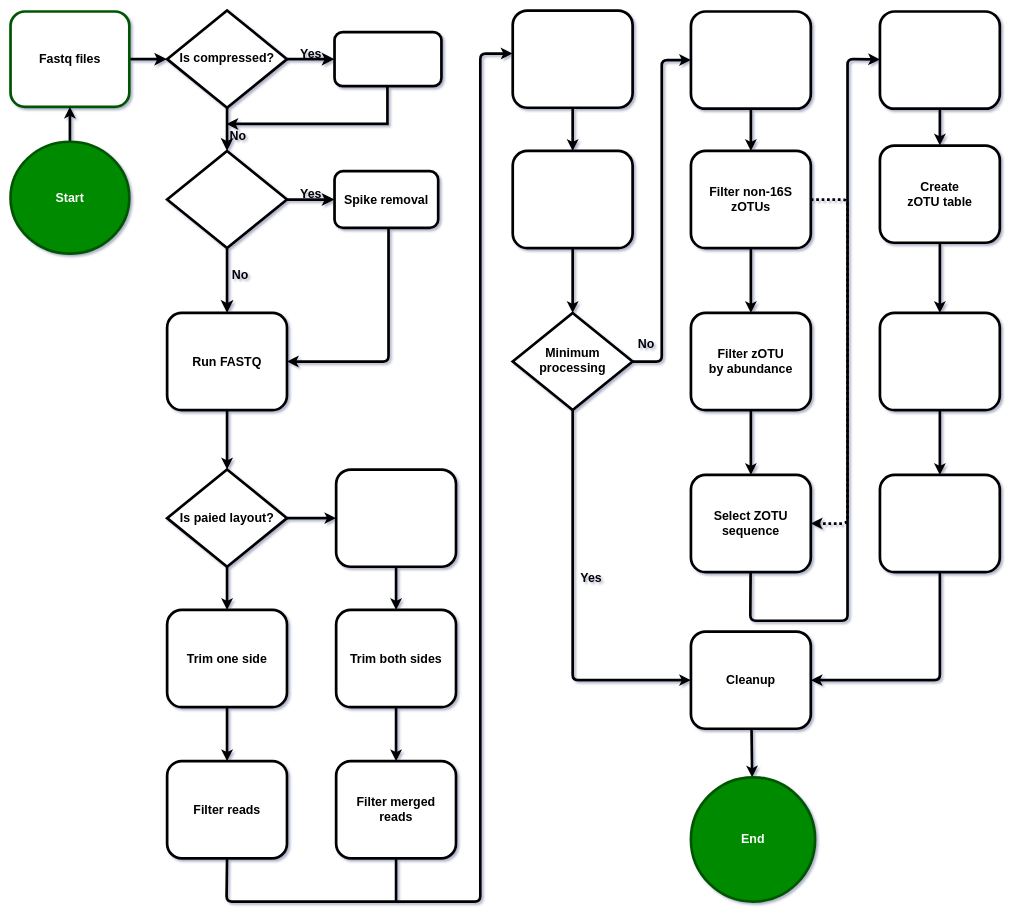
This 1014x920 diagram has some shape labels left out. The centre of each missing label's shape, as x and y in pixels:
Add Krona graph: the point at 939,361
Add taxonomy: the point at 939,60
Decompress: the point at 388,59
Denoising (zOTUs creation): the point at 750,60
Dereplication (deduplication): the point at 572,59
Diversity metrics calculation: the point at 939,523
Is spiked?: the point at 227,199
Merge pairs: the point at 396,518
Sort sequences: the point at 572,199
